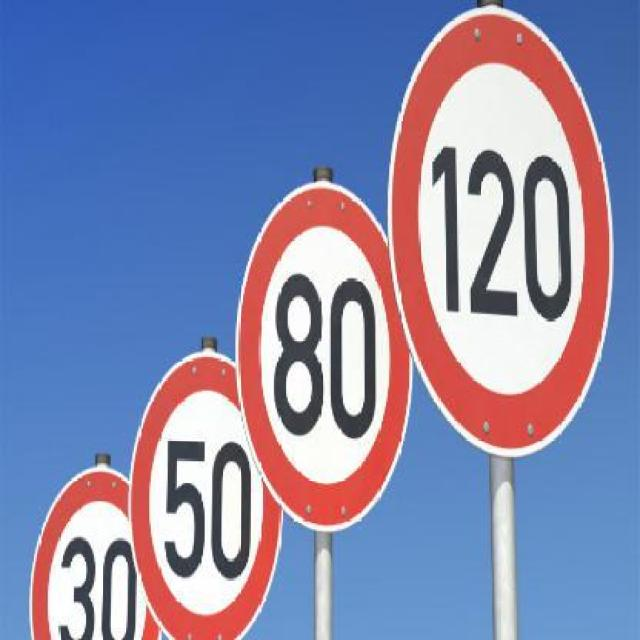forb_speed_over_120: (393, 6, 612, 457)
forb_speed_over_30: (29, 467, 143, 640)
forb_speed_over_50: (133, 352, 267, 639)
forb_speed_over_80: (246, 186, 406, 526)
